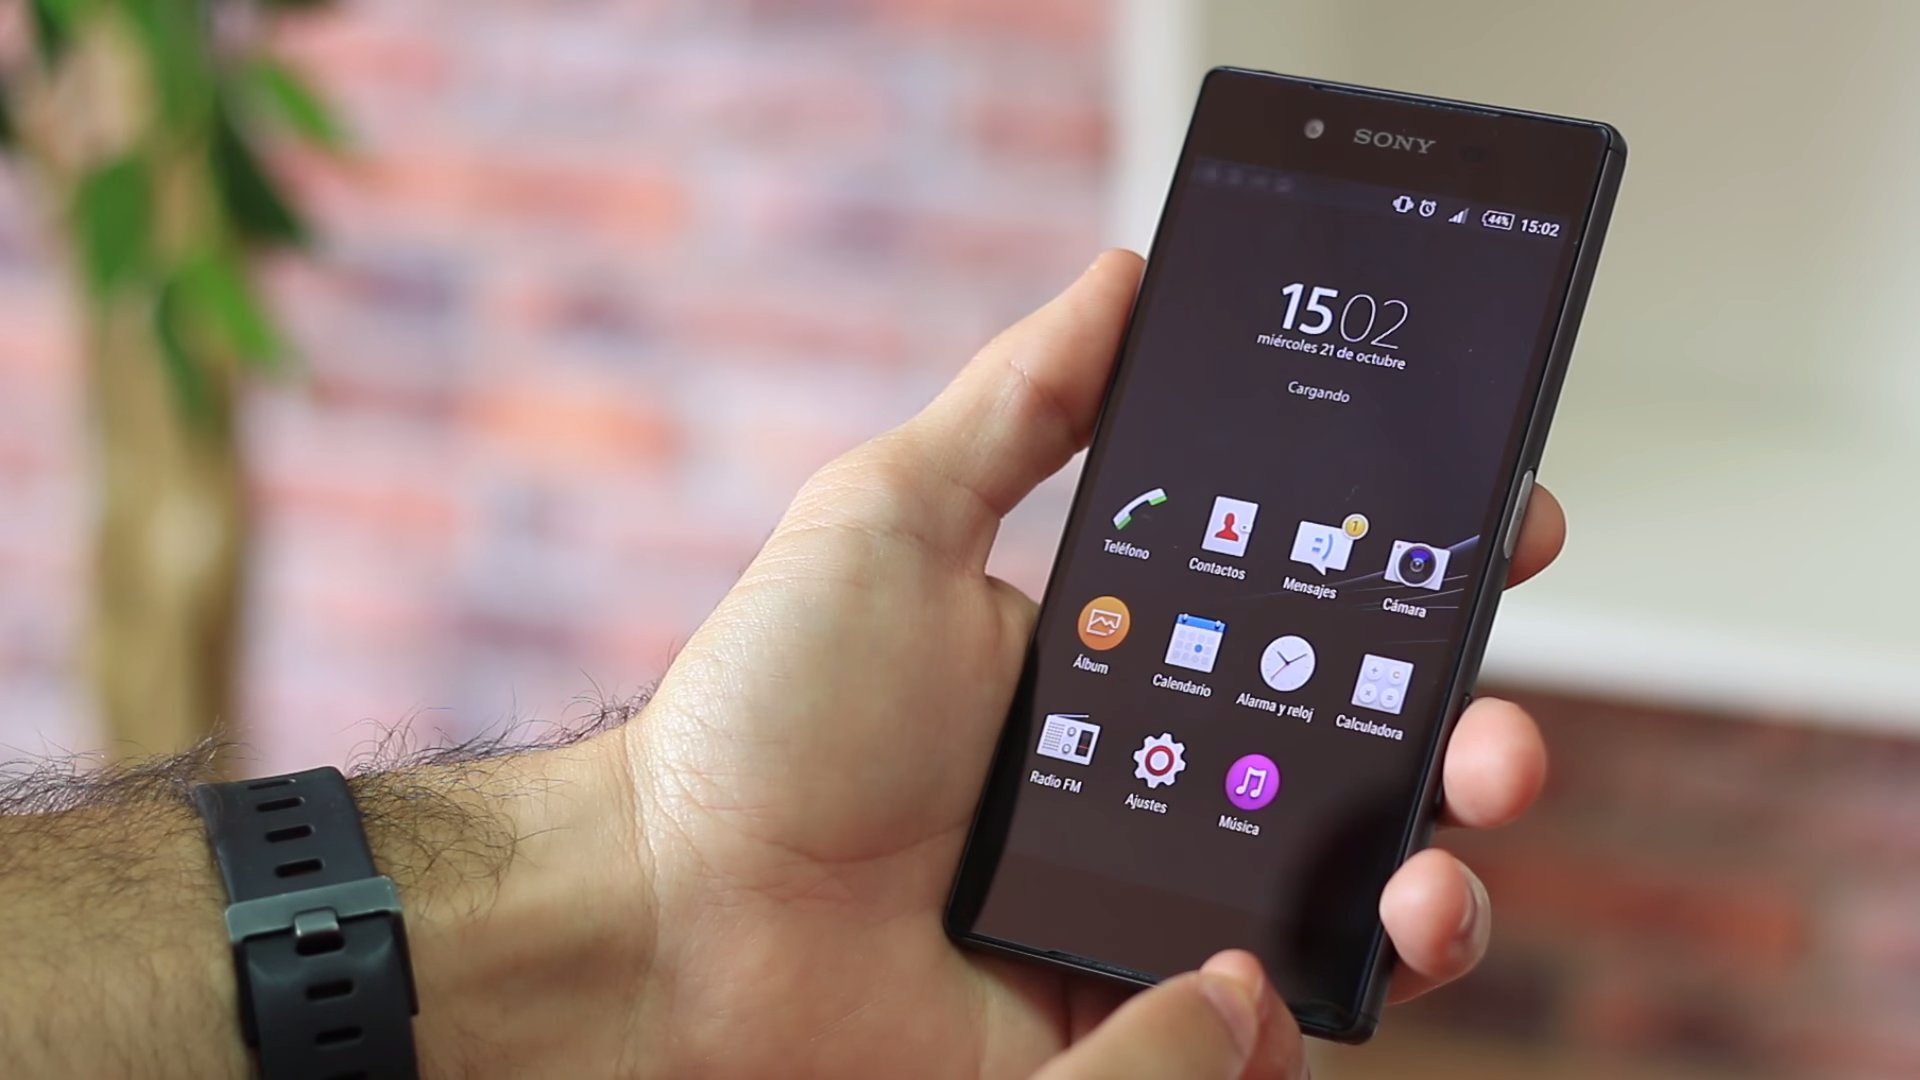smartphone: (942, 63, 1631, 1046)
